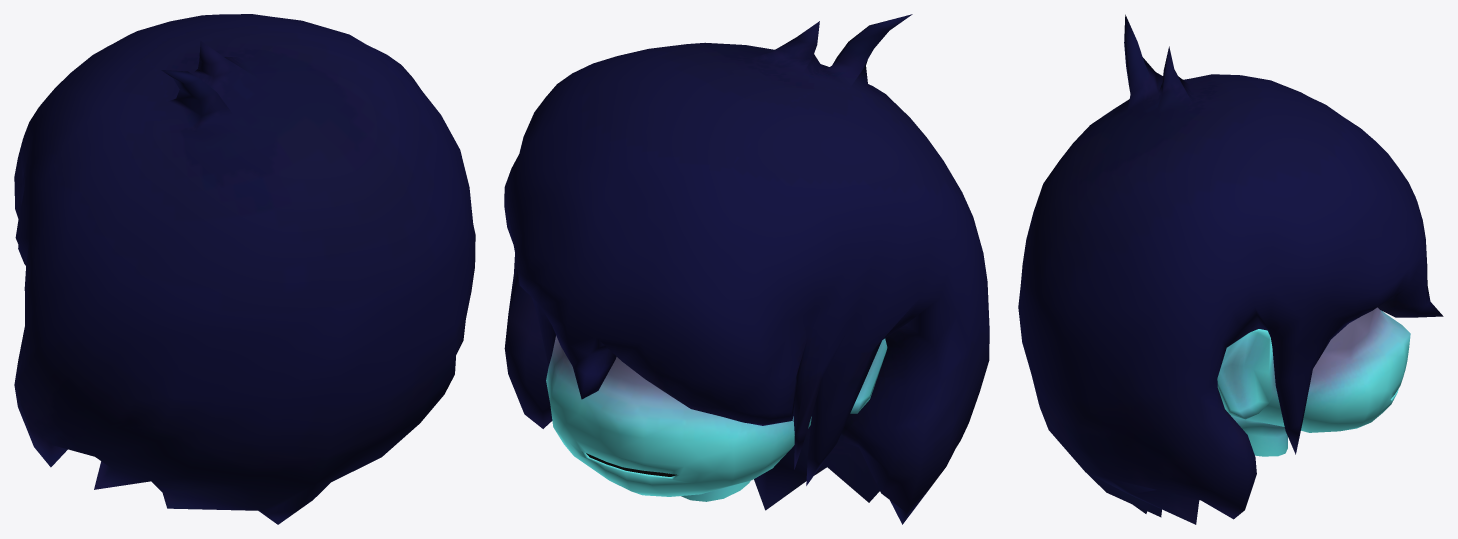
The model's file is kris.glb.
3 views of the same model, side by side, from view 1: azimuth 30°, elevation 25°; view 2: azimuth 150°, elevation 25°; view 3: azimuth 270°, elevation 25° (orthographic). The views are drawn at different scales.
Parts seen in each view (by area): view 1: dwkris_reference; view 2: dwkris_reference; view 3: dwkris_reference.
Part boxes in pixels (left/top/right/bottom): dwkris_reference: left=14, top=14, right=475, bottom=524; dwkris_reference: left=504, top=14, right=989, bottom=524; dwkris_reference: left=1018, top=14, right=1443, bottom=524.
Bounding box in the file's own units: 2.57 × 2.83 × 2.46.
Materials: 1 (1 with a texture image).
